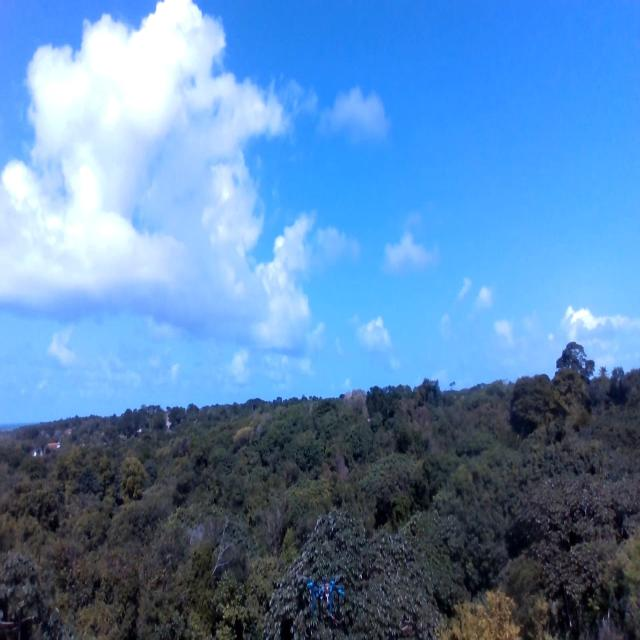-uav-: (296, 566, 360, 628)
